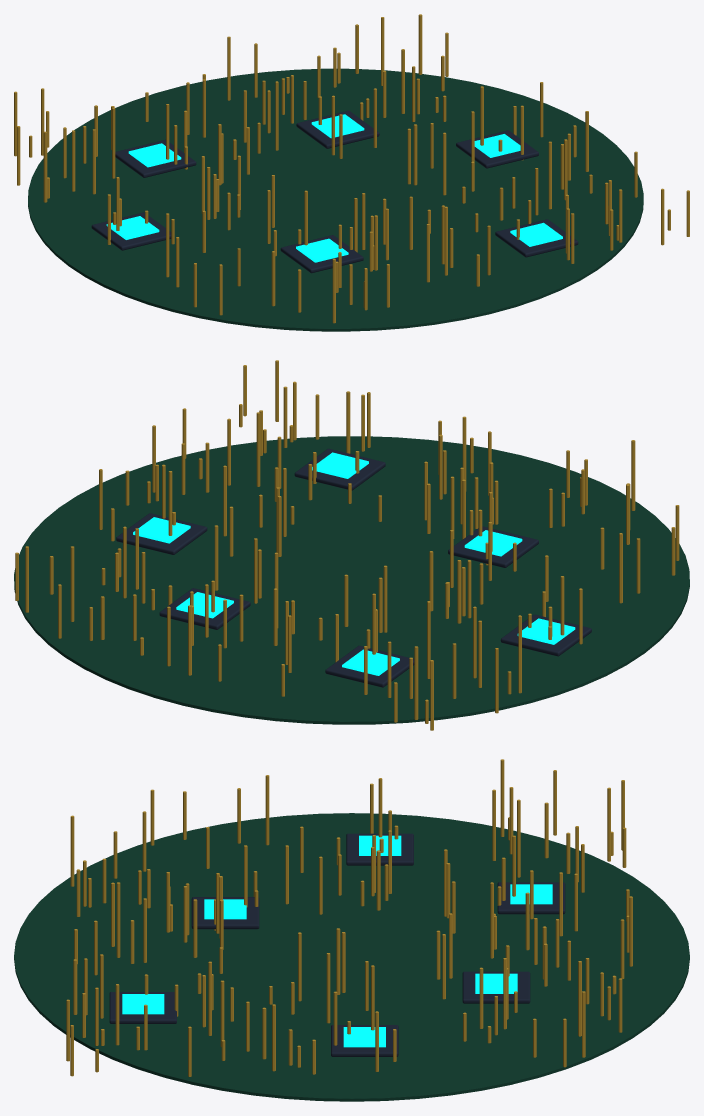
The model's file is backdrop_03.glb.
3 views of the same model, one above another, from view 1: azimuth 30°, elevation 25°; view 2: azimuth 150°, elevation 25°; view 3: azimuth 270°, elevation 25° (orthographic). The views are drawn at different scales.
Visible parts, largest first — view 1: backdrop_03; view 2: backdrop_03; view 3: backdrop_03.
Part boxes in pixels (x1,y1,x2,y2): backdrop_03: (14,14,689,331); backdrop_03: (14,360,689,730); backdrop_03: (14,759,689,1101).
Bounding box in the file's own units: 80 × 10.49 × 80.
